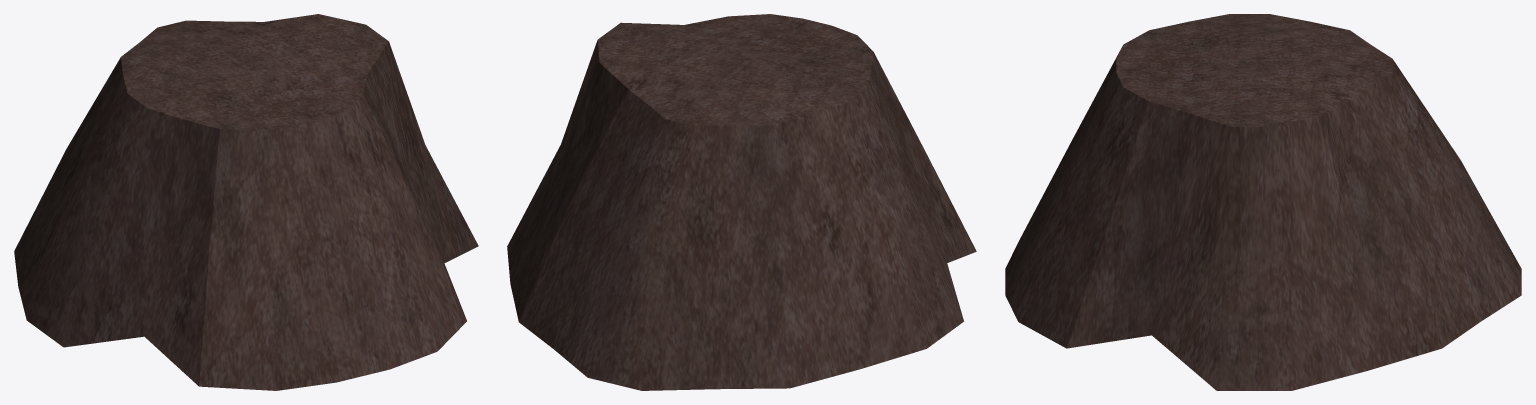
File: Small Rock.FBX
3 views of the same model, side by side, from view 1: azimuth 30°, elevation 25°; view 2: azimuth 150°, elevation 25°; view 3: azimuth 270°, elevation 25° (orthographic).
Parts seen in each view (by area): view 1: Small Stone; view 2: Small Stone; view 3: Small Stone.
Part boxes in pixels (bbox=[...]): Small Stone: bbox=[14, 14, 478, 390]; Small Stone: bbox=[507, 14, 976, 390]; Small Stone: bbox=[1005, 14, 1521, 390].
Bounding box in the file's own units: 30.22 × 15.28 × 32.06.
Materials: 1 (1 with a texture image).
